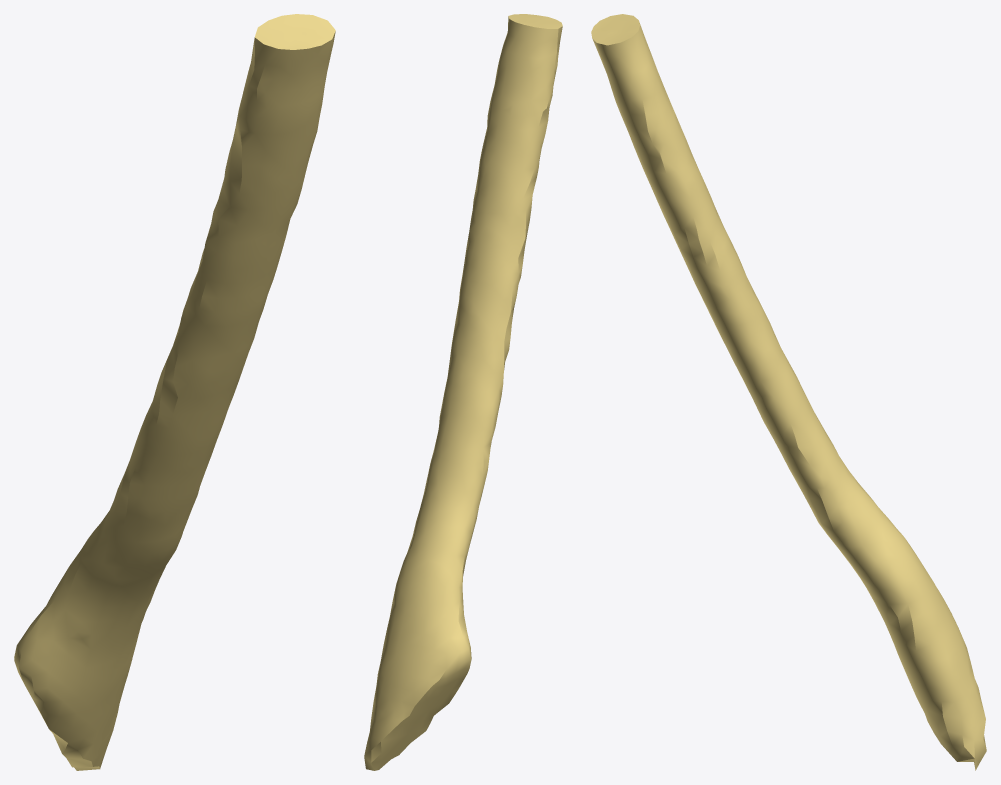
Rendered from fma73835_mm3405m.glb.
3 views of the same model, side by side, from view 1: azimuth 30°, elevation 25°; view 2: azimuth 150°, elevation 25°; view 3: azimuth 270°, elevation 25° (orthographic). The views are drawn at different scales.
Parts seen in each view (by area): view 1: FMA73835_MM3405M; view 2: FMA73835_MM3405M; view 3: FMA73835_MM3405M.
Part boxes in pixels (bbox=[...]): FMA73835_MM3405M: bbox=[14, 14, 335, 770]; FMA73835_MM3405M: bbox=[364, 14, 562, 770]; FMA73835_MM3405M: bbox=[591, 14, 986, 770].
Size of the model in its own units: 0.00226 by 0.0146 by 0.00708.
